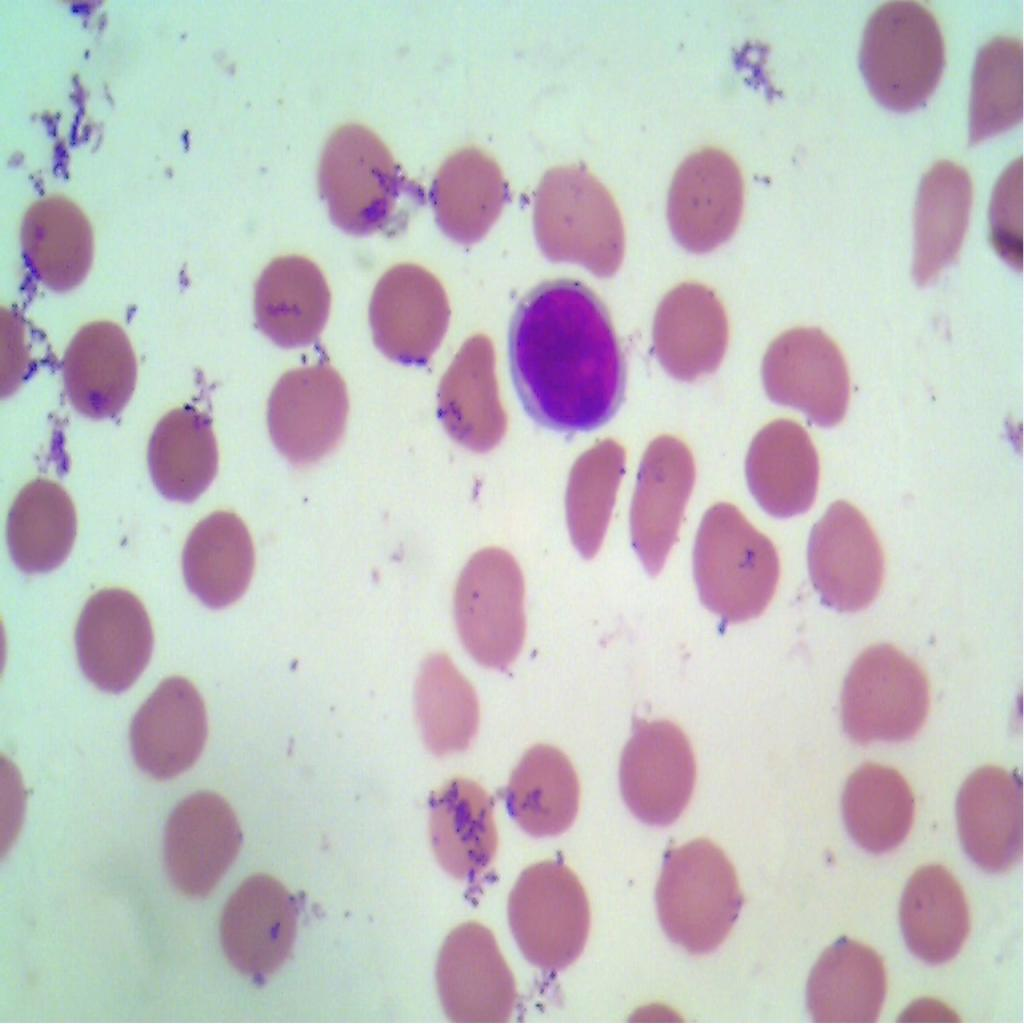Eritrosit: (444, 532, 538, 682), (829, 639, 943, 752), (531, 154, 629, 282), (689, 500, 784, 627), (848, 0, 946, 121), (758, 311, 858, 429), (66, 575, 158, 698), (398, 644, 486, 770), (506, 847, 594, 972), (211, 868, 301, 989), (421, 131, 508, 255), (10, 184, 101, 302), (661, 141, 749, 263), (630, 429, 700, 580), (654, 835, 740, 957), (156, 784, 244, 903), (618, 711, 704, 832), (906, 154, 978, 298), (366, 254, 455, 370), (312, 115, 398, 235), (804, 495, 890, 615), (54, 315, 138, 435), (263, 357, 354, 465), (796, 927, 898, 1023), (426, 917, 513, 1023), (420, 772, 506, 877), (430, 338, 512, 448), (898, 852, 972, 971), (126, 674, 208, 781), (558, 432, 626, 559), (744, 408, 821, 520), (4, 477, 86, 581), (648, 277, 730, 381), (246, 250, 334, 344), (178, 511, 258, 614), (143, 398, 221, 503), (955, 757, 1023, 877), (508, 737, 586, 841), (839, 758, 914, 856), (961, 26, 1023, 144)
Limfoblast: (508, 275, 629, 434)
